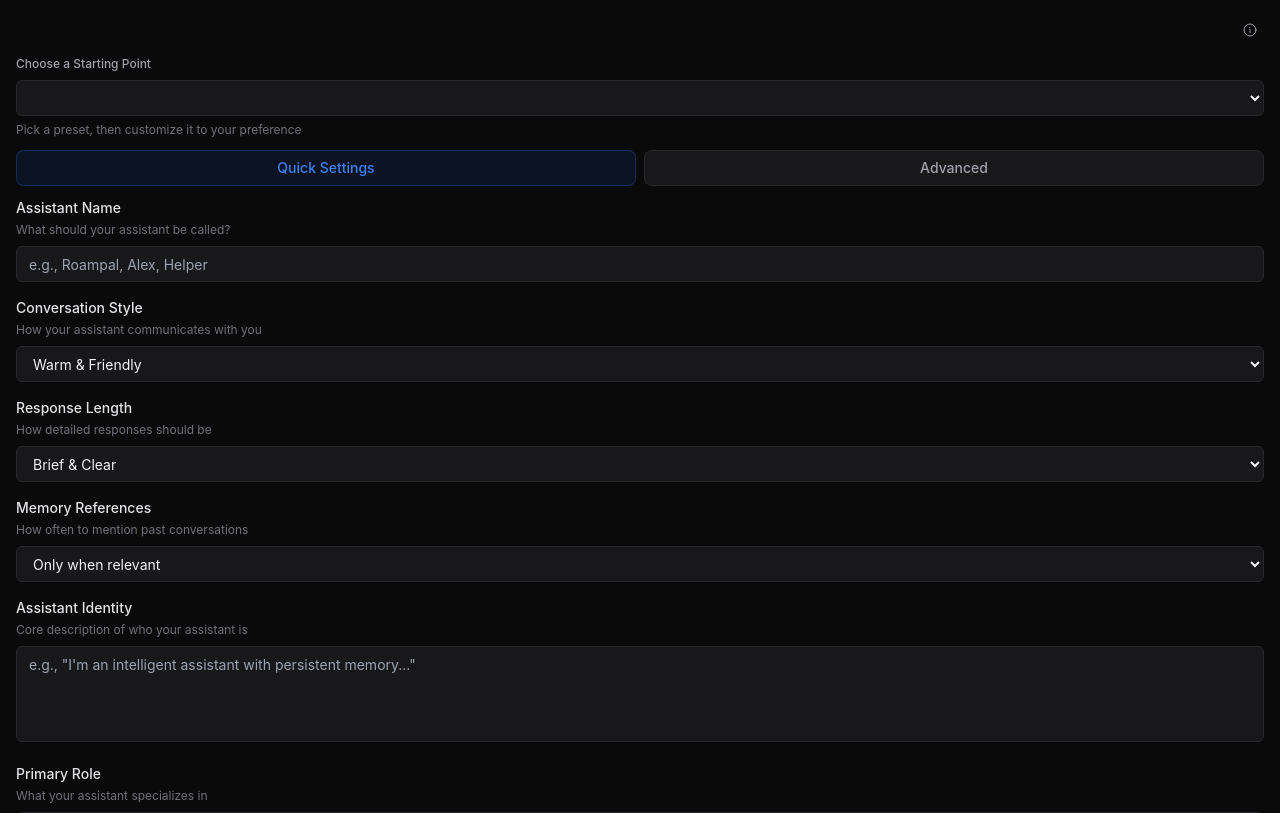
Scenario: PersonalityCustomizer › Info Panel › toggles info panel when clicked
Click the button titled "Show information" at [1250, 30], box [1236, 16, 1264, 44]
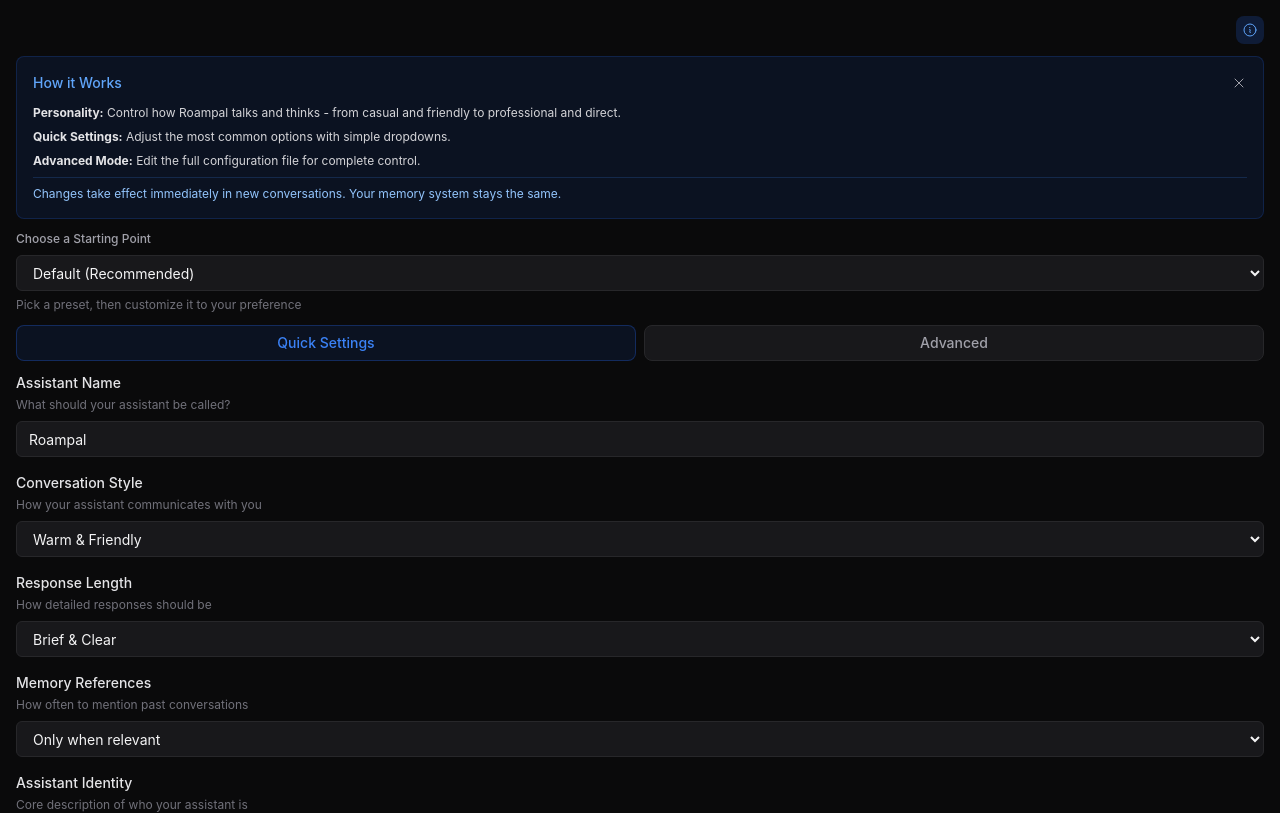
Now the heading "How it Works" is shown, box [33, 73, 122, 93]
